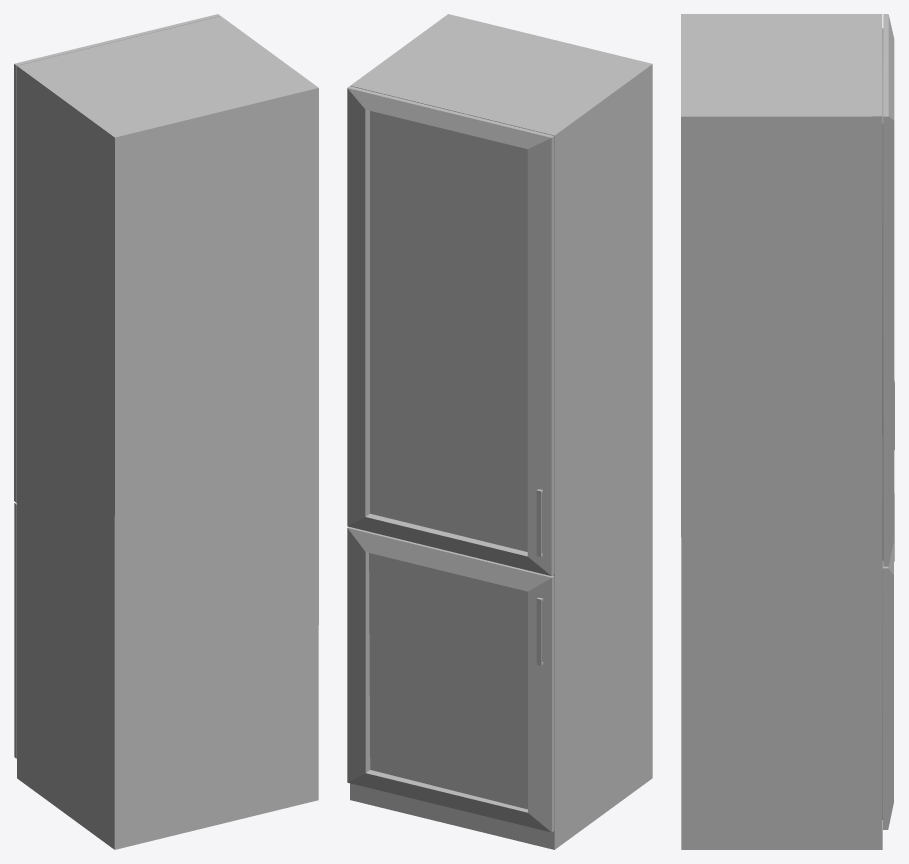
The model's file is Refrigerator.fbx.
3 renders of one model, left to right at view 1: azimuth 30°, elevation 25°; view 2: azimuth 150°, elevation 25°; view 3: azimuth 270°, elevation 25°, orthographic. The views are drawn at different scales.
Visible parts, largest first — view 1: Refrigerator, Door_upper, Door_lower; view 2: Refrigerator, Door_upper, Door_lower; view 3: Refrigerator, Door_upper, Door_lower.
Boxes of the visible parts, <box> form: Refrigerator: <box>17,16,318,849</box>; Door_upper: <box>14,14,220,502</box>; Door_lower: <box>14,502,16,758</box>; Refrigerator: <box>350,14,652,849</box>; Door_upper: <box>347,86,554,576</box>; Door_lower: <box>347,527,554,832</box>; Refrigerator: <box>681,14,882,849</box>; Door_upper: <box>882,14,894,566</box>; Door_lower: <box>882,492,894,829</box>.
Size of the model in its own units: 0.6829 by 2.28 by 0.6026.
